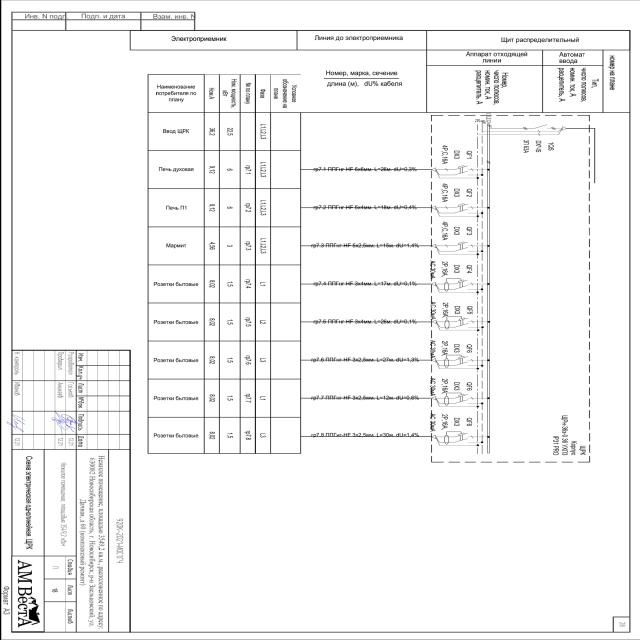-: (549, 415, 587, 457), (440, 144, 460, 166), (439, 220, 459, 241), (439, 182, 459, 202), (440, 260, 460, 278), (440, 414, 460, 432), (440, 376, 460, 394), (439, 338, 459, 356), (440, 301, 460, 319), (520, 138, 542, 154)
QF: (452, 240, 470, 252), (452, 202, 468, 215), (452, 164, 469, 176)
QFD: (442, 278, 470, 292), (442, 355, 470, 369), (442, 431, 470, 445), (444, 316, 471, 330), (443, 392, 470, 406)
QS: (534, 124, 548, 130)
